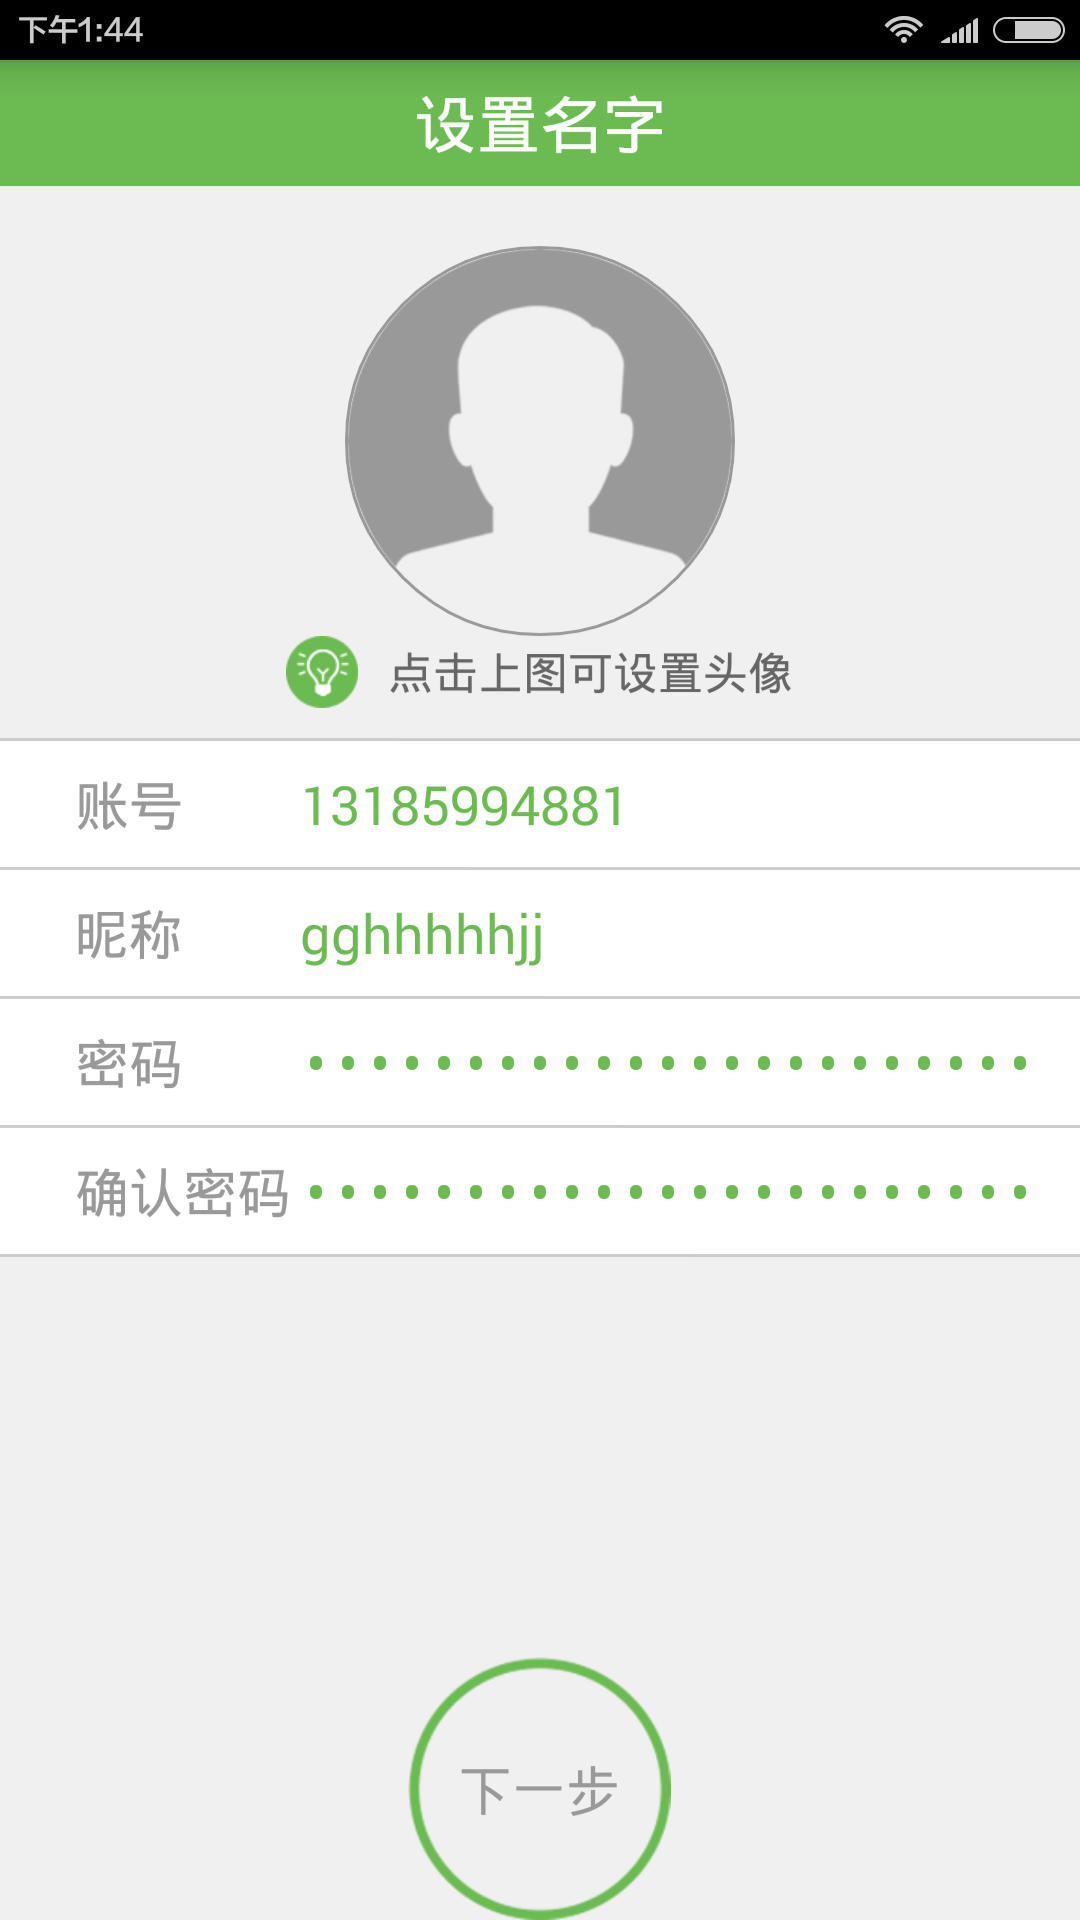imgbutton: (400, 1639, 680, 1920)
imgview: (334, 235, 752, 637)
textview: (7, 735, 1080, 1251)
